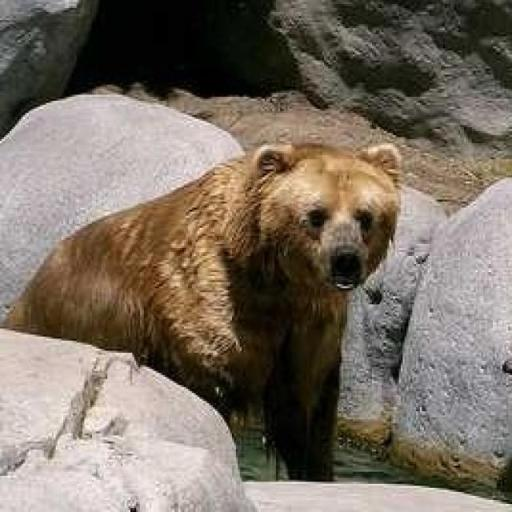Bear: (2, 139, 403, 482)
